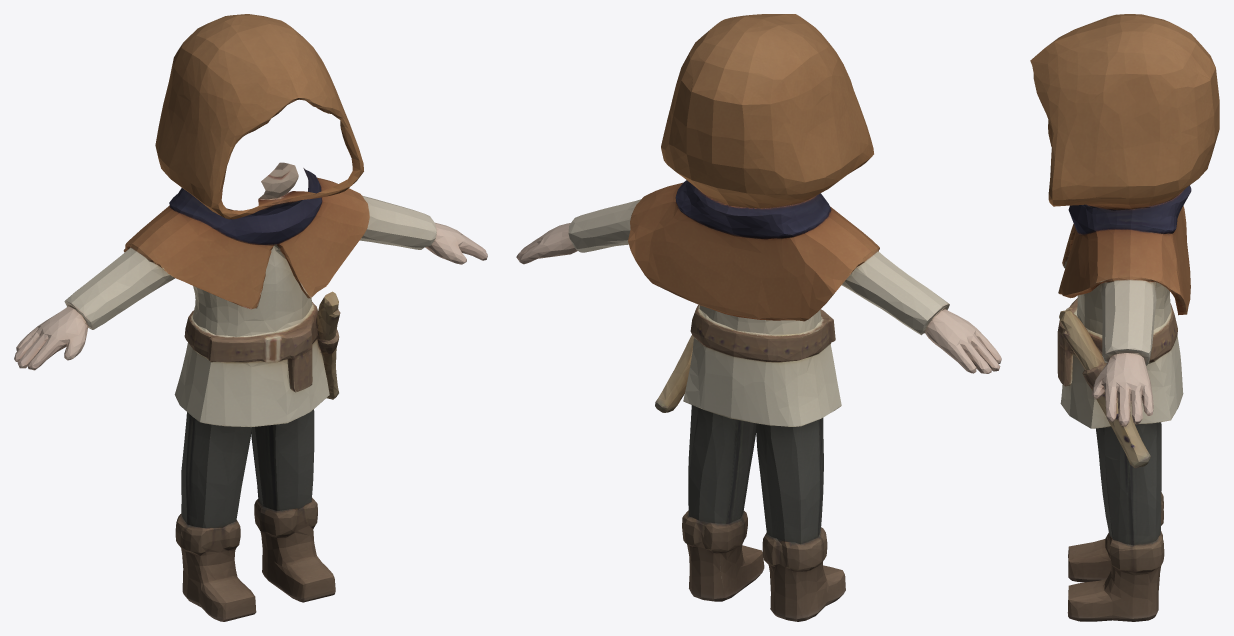
The model's file is orel.glb.
3 renders of one model, left to right at view 1: azimuth 30°, elevation 25°; view 2: azimuth 150°, elevation 25°; view 3: azimuth 270°, elevation 25°, orthographic. The views are drawn at different scales.
Visible parts, largest first — view 1: world; view 2: world; view 3: world.
Part boxes in pixels (x1,y1,x2,y2): world: [14, 14, 487, 621]; world: [516, 14, 1001, 621]; world: [1030, 14, 1219, 621].
Size of the model in its own units: 0.8646 by 0.9997 by 0.3007.
1 material, 1 textured.
